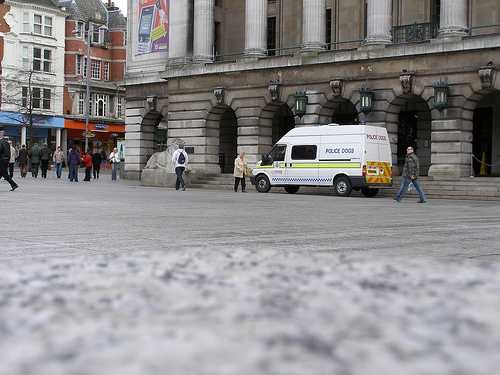Ambulance: (237, 98, 402, 197)
